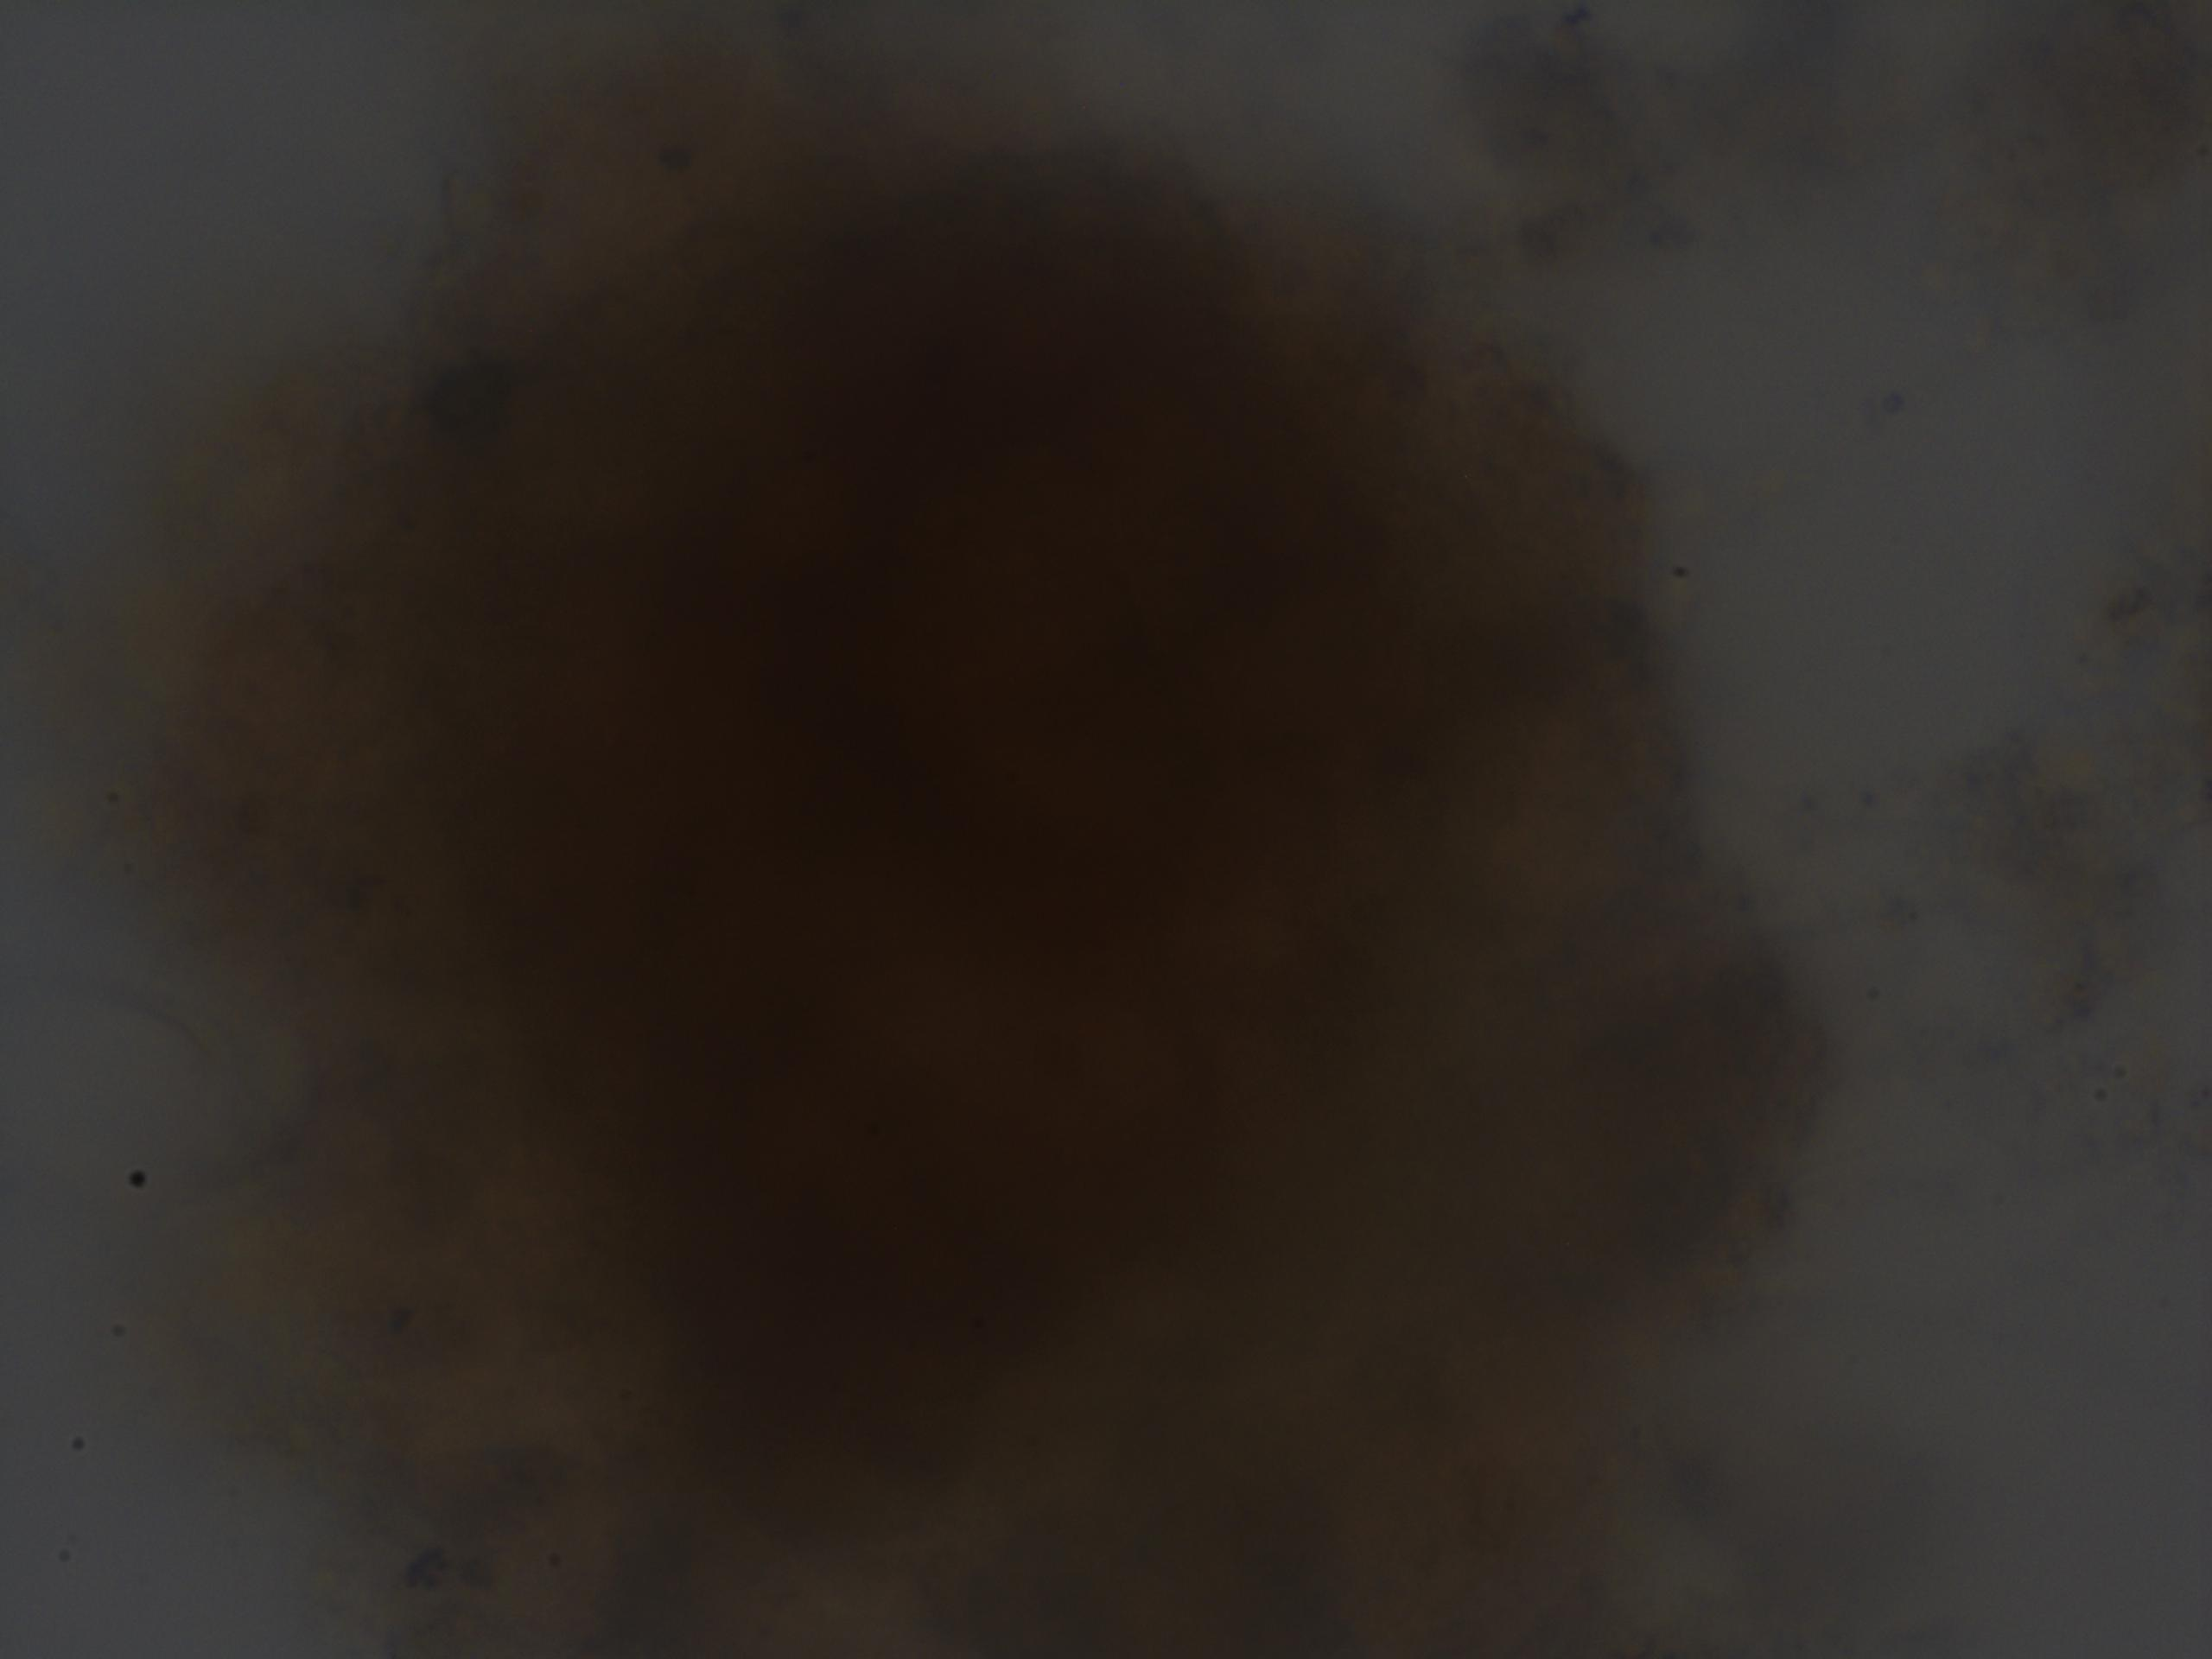spherical_floc: (77, 103, 1838, 1659)
